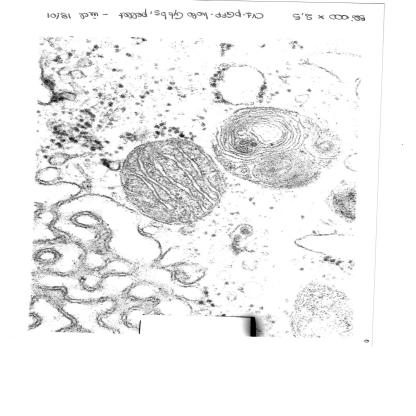mitochondria: (210, 106, 344, 189), (119, 136, 227, 226)
